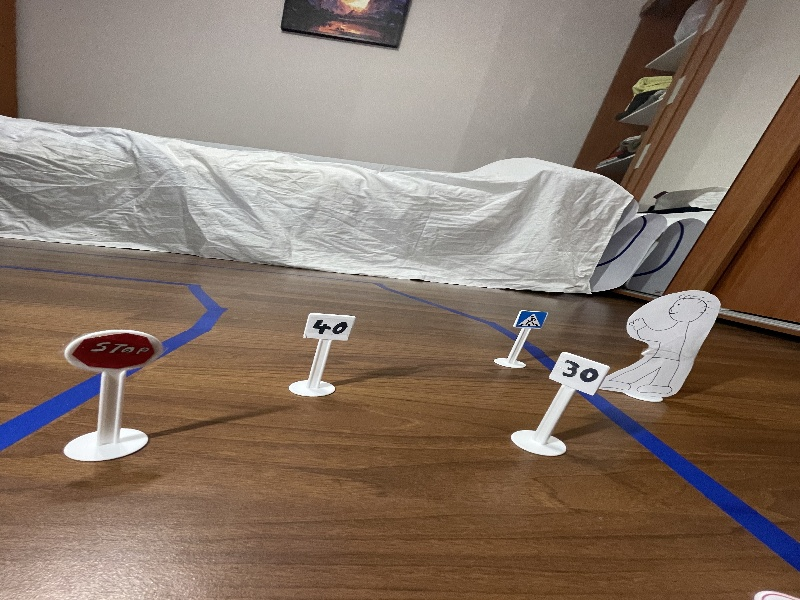persoana: (604, 268, 722, 419)
stop: (64, 322, 169, 376)
trecere_pietoni: (514, 305, 548, 333)
viteza_limita_30: (546, 340, 613, 400)
viteza_limita_40: (301, 306, 360, 347)
